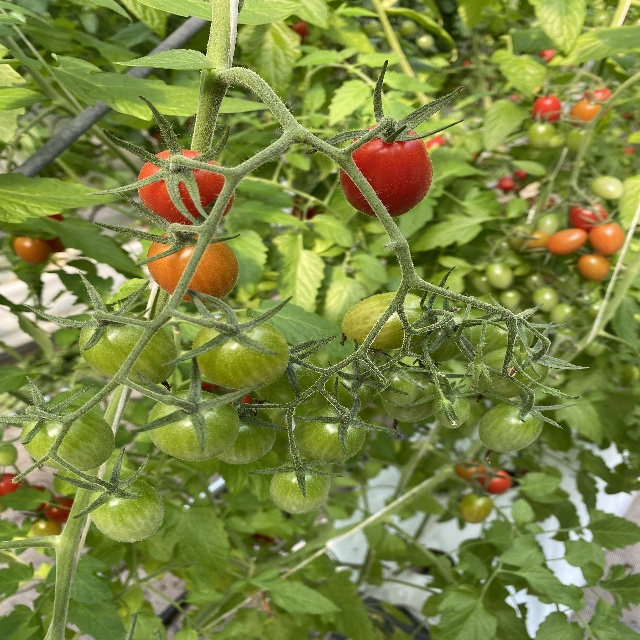l_fully_ripened: (338, 124, 433, 218), (137, 148, 237, 233)
l_green: (78, 310, 178, 388), (192, 315, 291, 390), (148, 388, 239, 461), (20, 404, 116, 473), (85, 477, 166, 543), (252, 345, 326, 409), (293, 405, 368, 465), (379, 366, 451, 422), (471, 348, 550, 399), (214, 406, 278, 465), (403, 312, 474, 363), (478, 400, 545, 453), (268, 459, 330, 514), (314, 363, 378, 414), (465, 318, 533, 363), (377, 370, 420, 408), (434, 391, 470, 428)
l_half_ripened: (146, 228, 240, 305), (341, 292, 435, 351)
